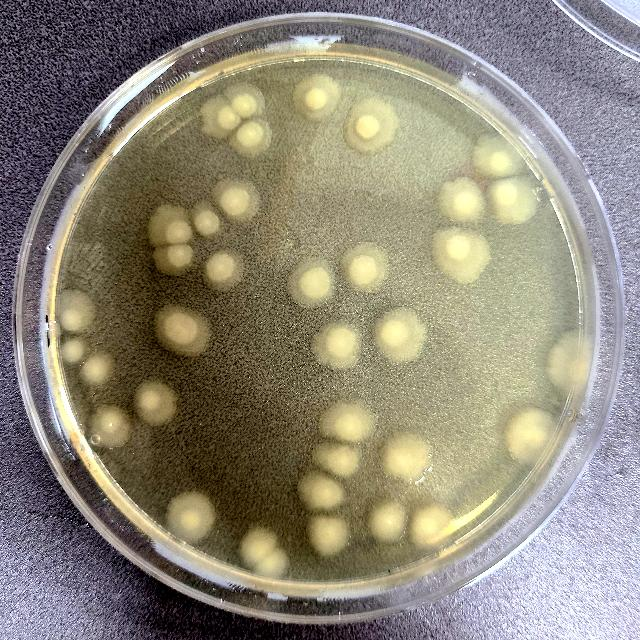colony: (431, 228, 492, 286), (548, 328, 594, 394), (344, 97, 398, 151), (155, 306, 211, 358), (374, 308, 426, 364), (506, 406, 556, 464), (166, 490, 218, 544), (381, 434, 433, 482), (342, 242, 390, 292), (319, 399, 376, 441), (472, 132, 526, 176), (288, 258, 336, 306), (311, 322, 361, 368), (488, 177, 538, 223), (294, 74, 342, 120), (438, 177, 486, 223), (409, 501, 455, 549), (212, 178, 262, 222), (307, 514, 353, 558), (298, 470, 346, 512), (148, 202, 194, 245), (135, 379, 177, 426), (90, 404, 134, 448), (198, 97, 244, 139), (312, 442, 364, 478), (202, 247, 244, 291), (230, 116, 272, 158), (238, 526, 280, 566), (56, 288, 96, 330), (368, 501, 408, 542), (225, 81, 265, 121), (189, 199, 225, 237), (153, 244, 195, 274), (78, 350, 115, 384), (256, 548, 290, 580), (60, 336, 92, 364)
